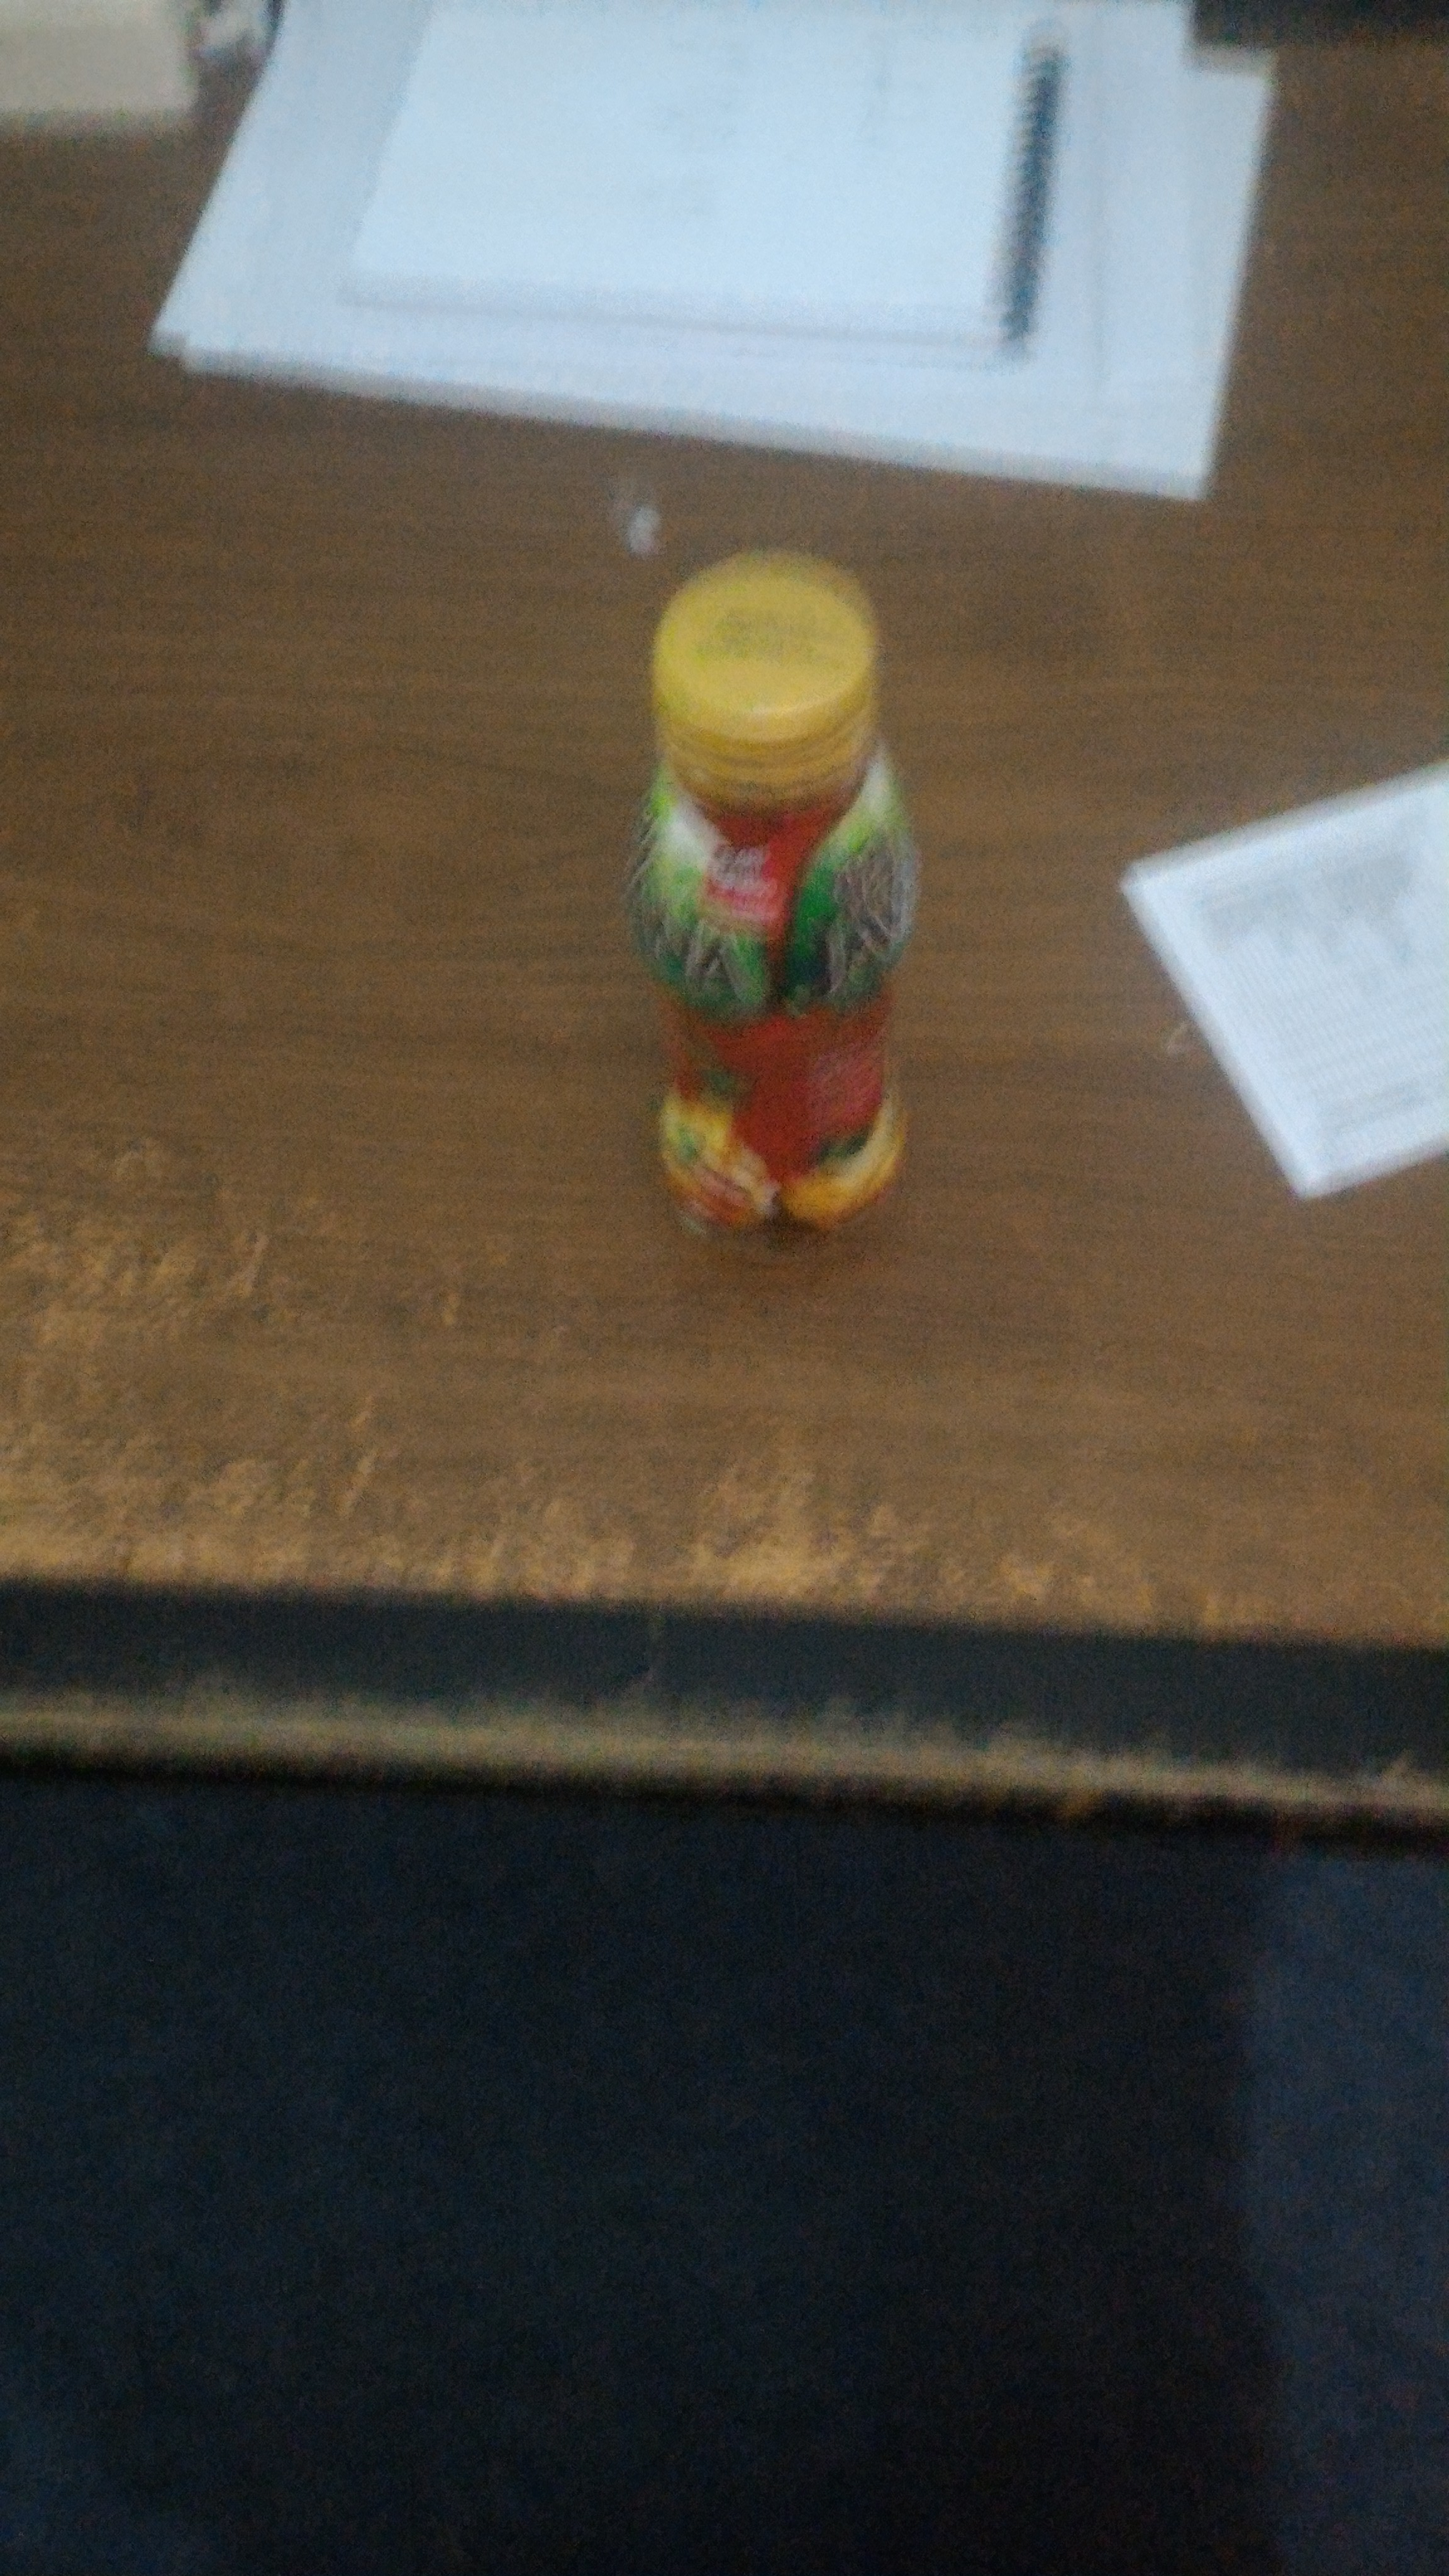botol: (632, 552, 916, 1258)
